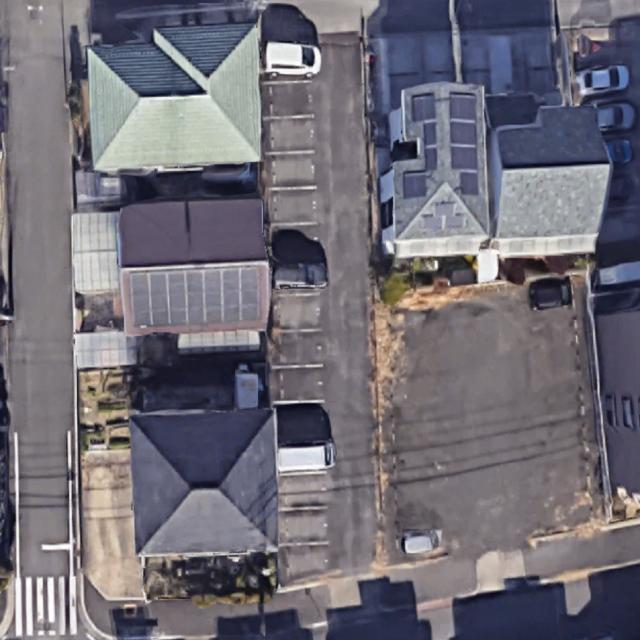Batiment: (88, 23, 261, 171), (131, 410, 278, 555), (118, 198, 269, 334), (490, 107, 610, 258), (390, 83, 490, 258), (218, 310, 219, 321)
